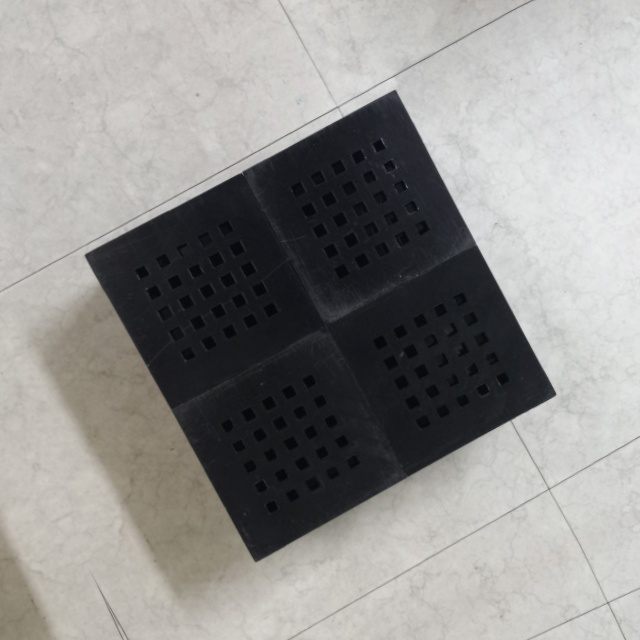pallet: (72, 78, 567, 572)
